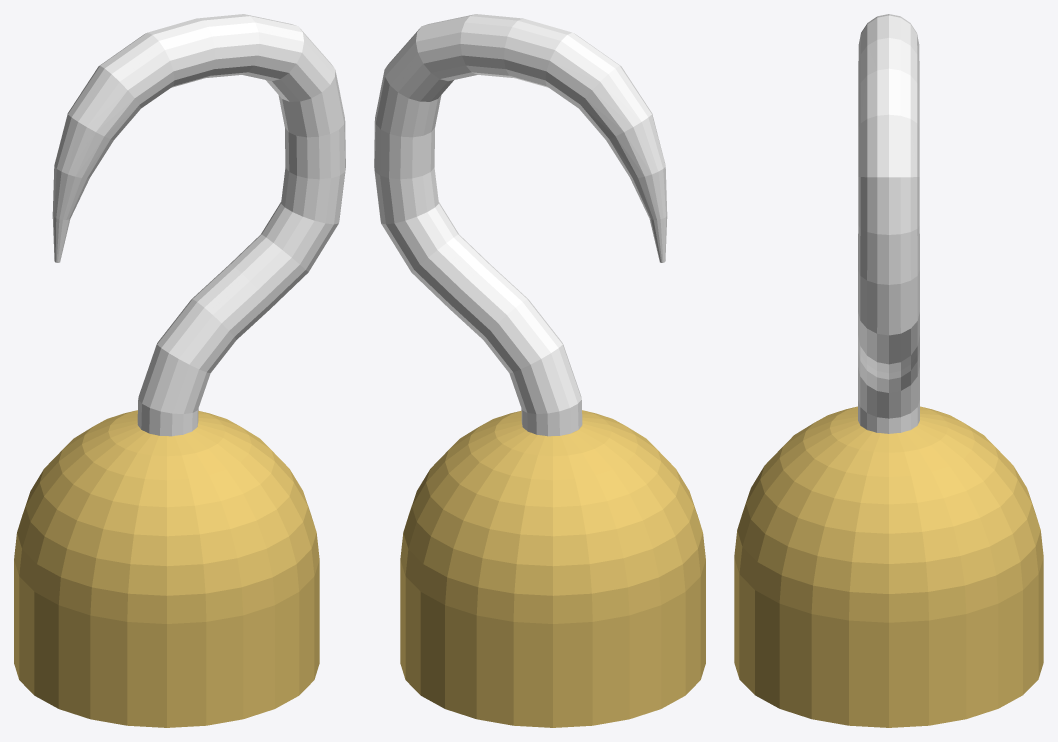
3 renders of one model, left to right at view 1: azimuth 30°, elevation 25°; view 2: azimuth 150°, elevation 25°; view 3: azimuth 270°, elevation 25°, orthographic.
Visible parts, largest first — view 1: Capsule, Spline_sweep; view 2: Capsule, Spline_sweep; view 3: Capsule, Spline_sweep.
Part boxes in pixels (box(x1,y1,x2,y2)): Capsule: box(14, 410, 319, 727); Spline_sweep: box(52, 14, 345, 436); Capsule: box(400, 410, 705, 727); Spline_sweep: box(374, 14, 667, 436); Capsule: box(734, 406, 1043, 727); Spline_sweep: box(858, 14, 919, 433).
Bounding box in the file's own units: 116 × 229 × 100.
